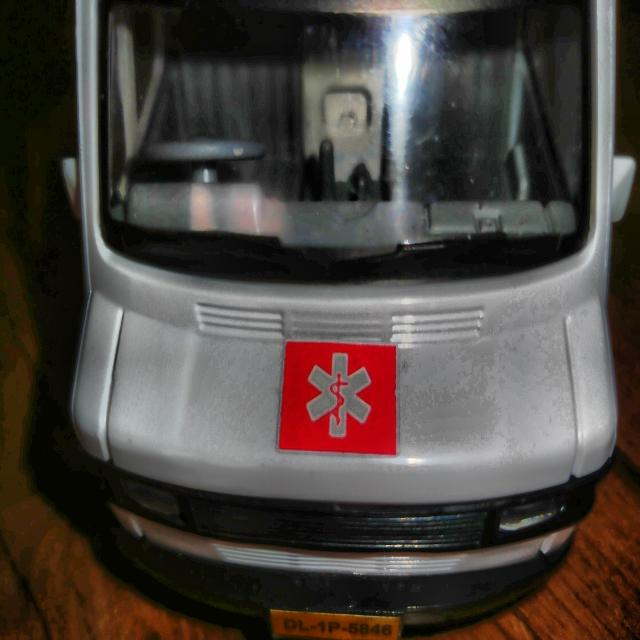Ambulance: (72, 0, 634, 637), (278, 340, 396, 456)
